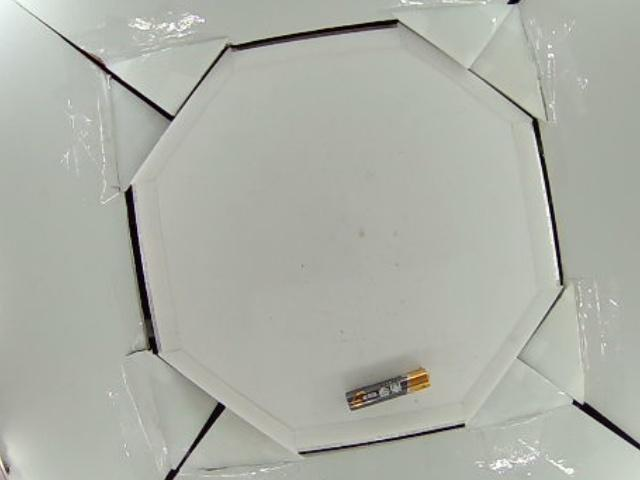Battery: (343, 366, 431, 409)
